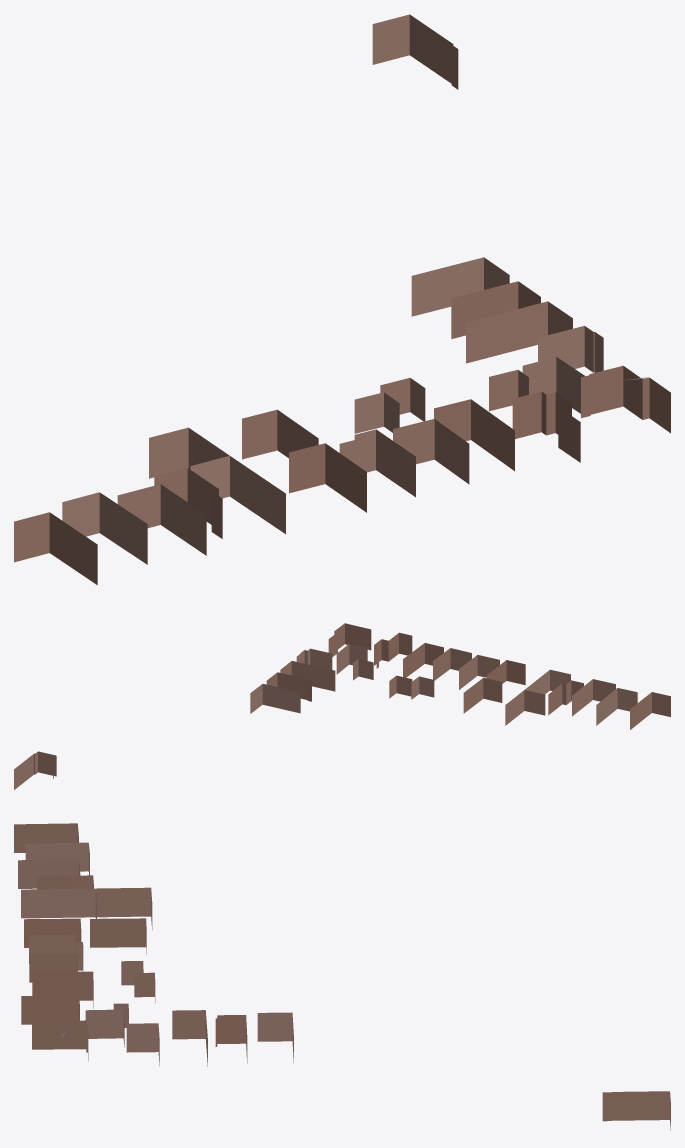
The model's file is c_1639_17825_buildings_residential.glb.
3 views of the same model, one above another, from view 1: azimuth 30°, elevation 25°; view 2: azimuth 150°, elevation 25°; view 3: azimuth 270°, elevation 25° (orthographic). The views are drawn at different scales.
Parts seen in each view (by area): view 1: geometry_0; view 2: geometry_0; view 3: geometry_0.
Boxes of the visible parts, x1=… form: geometry_0: x1=14, y1=14, x2=670, y2=584; geometry_0: x1=14, y1=623, x2=670, y2=789; geometry_0: x1=14, y1=823, x2=670, y2=1130.
Bounding box in the file's own units: 199 × 9.58 × 196.
